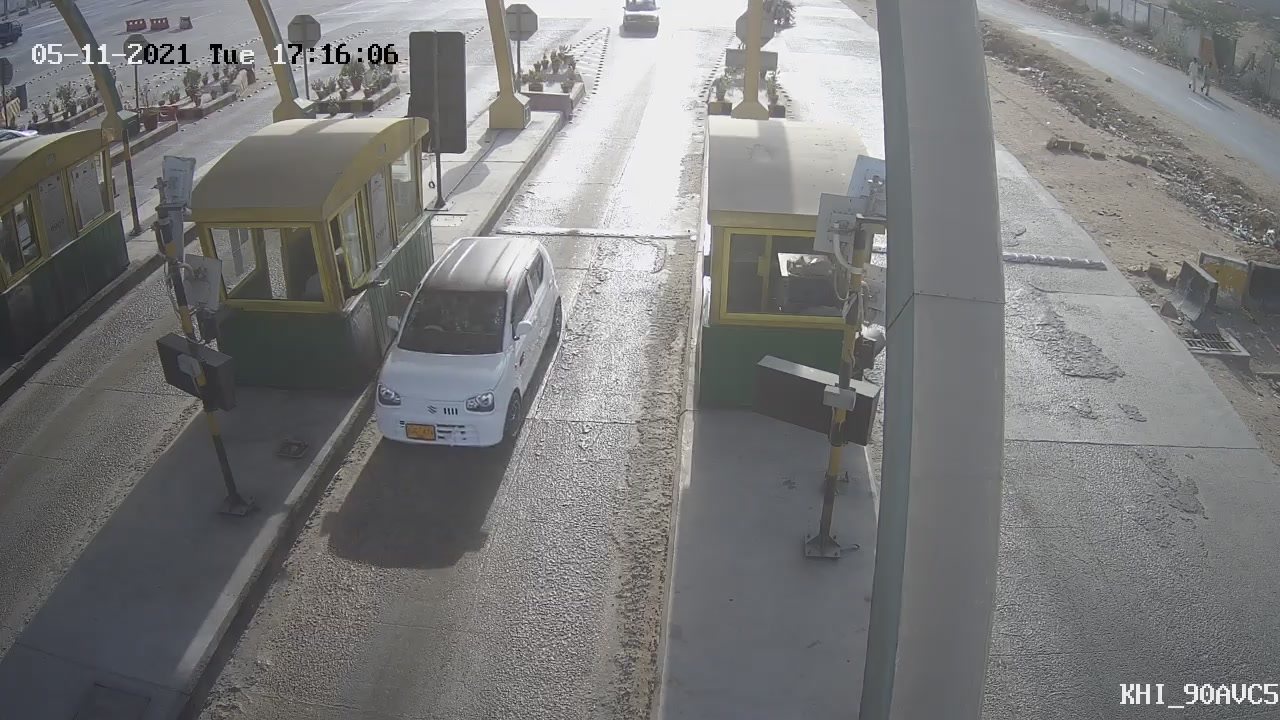F1: (347, 214, 587, 473)
